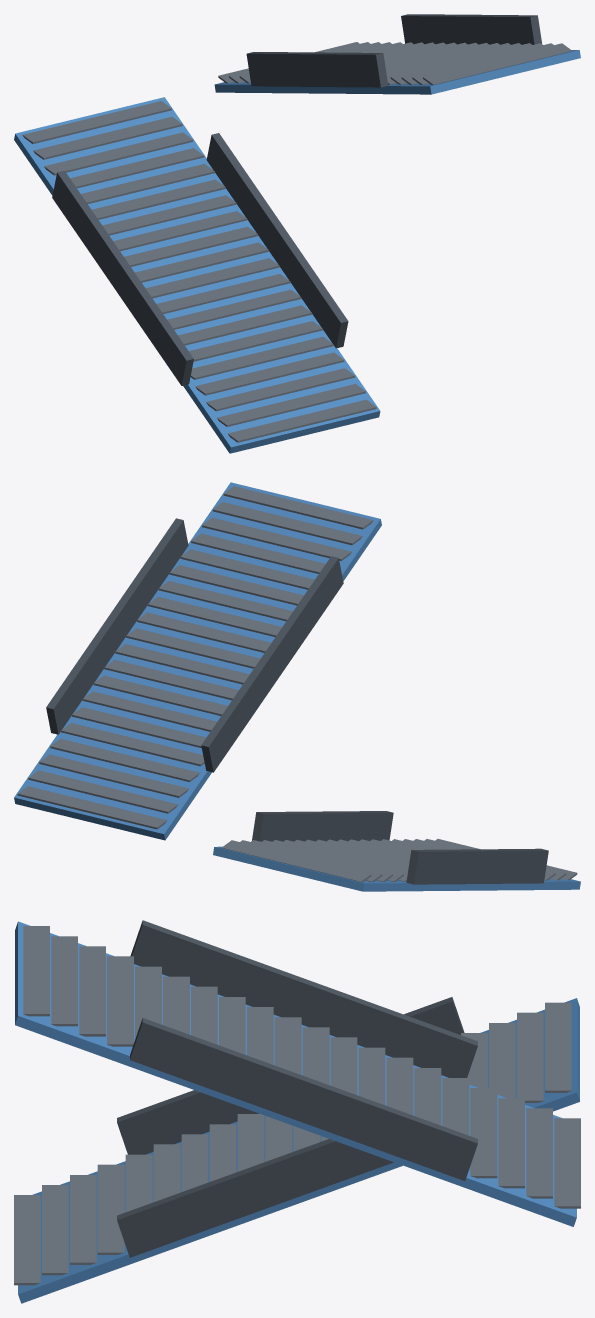
3 renders of one model, top to bottom at view 1: azimuth 30°, elevation 25°; view 2: azimuth 150°, elevation 25°; view 3: azimuth 270°, elevation 25°, orthographic. The views are drawn at different scales.
Parts seen in each view (by area): view 1: Stair_Generic_Rotatable_LowerFlight_Walkable, Stair_Generic_Rotatable_LowerFlight_Guard_01, Stair_Generic_Rotatable_LowerFlight_Guard_02, Stair_Generic_Rotatable_UpperFlight_Guard_02, Stair_Generic_Rotatable_UpperFlight_Guard_01, Stair_Generic_Rotatable_UpperFlight_Walkable, Stair_Generic_Rotatable_ROOT_LowerFlight_Tread_02, Stair_Generic_Rotatable_ROOT_LowerFlight_Tread_17, Stair_Generic_Rotatable_ROOT_LowerFlight_Tread_01, Stair_Generic_Rotatable_ROOT_LowerFlight_Tread_18, Stair_Generic_Rotatable_ROOT_LowerFlight_Tread_20, Stair_Generic_Rotatable_ROOT_LowerFlight_Tread_19 (+15 smaller); view 2: Stair_Generic_Rotatable_UpperFlight_Walkable, Stair_Generic_Rotatable_UpperFlight_Guard_02, Stair_Generic_Rotatable_UpperFlight_Guard_01, Stair_Generic_Rotatable_LowerFlight_Guard_01, Stair_Generic_Rotatable_LowerFlight_Guard_02, Stair_Generic_Rotatable_LowerFlight_Walkable, Stair_Generic_Rotatable_ROOT_UpperFlight_Tread_01, Stair_Generic_Rotatable_ROOT_UpperFlight_Tread_02, Stair_Generic_Rotatable_ROOT_UpperFlight_Tread_17, Stair_Generic_Rotatable_ROOT_UpperFlight_Tread_18, Stair_Generic_Rotatable_ROOT_UpperFlight_Tread_19, Stair_Generic_Rotatable_ROOT_UpperFlight_Tread_20 (+18 smaller); view 3: Stair_Generic_Rotatable_UpperFlight_Guard_01, Stair_Generic_Rotatable_UpperFlight_Guard_02, Stair_Generic_Rotatable_LowerFlight_Guard_02, Stair_Generic_Rotatable_UpperFlight_Walkable, Stair_Generic_Rotatable_LowerFlight_Walkable, Stair_Generic_Rotatable_LowerFlight_Guard_01, Stair_Generic_Rotatable_ROOT_LowerFlight_Tread_01, Stair_Generic_Rotatable_ROOT_UpperFlight_Tread_04, Stair_Generic_Rotatable_ROOT_UpperFlight_Tread_01, Stair_Generic_Rotatable_ROOT_UpperFlight_Tread_02, Stair_Generic_Rotatable_ROOT_UpperFlight_Tread_03, Stair_Generic_Rotatable_ROOT_UpperFlight_Tread_20 (+28 smaller).
Part boxes in pixels (x1,y1,x2,y2): Stair_Generic_Rotatable_LowerFlight_Walkable: [14, 97, 380, 453]; Stair_Generic_Rotatable_LowerFlight_Guard_01: [52, 170, 193, 385]; Stair_Generic_Rotatable_LowerFlight_Guard_02: [206, 133, 348, 348]; Stair_Generic_Rotatable_UpperFlight_Guard_02: [246, 52, 388, 87]; Stair_Generic_Rotatable_UpperFlight_Guard_01: [401, 14, 541, 44]; Stair_Generic_Rotatable_UpperFlight_Walkable: [214, 50, 580, 94]; Stair_Generic_Rotatable_ROOT_LowerFlight_Tread_02: [33, 116, 182, 159]; Stair_Generic_Rotatable_ROOT_LowerFlight_Tread_17: [195, 352, 344, 395]; Stair_Generic_Rotatable_ROOT_LowerFlight_Tread_01: [22, 101, 171, 143]; Stair_Generic_Rotatable_ROOT_LowerFlight_Tread_18: [206, 368, 355, 411]; Stair_Generic_Rotatable_ROOT_LowerFlight_Tread_20: [227, 399, 376, 442]; Stair_Generic_Rotatable_ROOT_LowerFlight_Tread_19: [217, 384, 365, 426]; Stair_Generic_Rotatable_UpperFlight_Walkable: [14, 482, 381, 840]; Stair_Generic_Rotatable_UpperFlight_Guard_02: [201, 556, 343, 772]; Stair_Generic_Rotatable_UpperFlight_Guard_01: [46, 518, 188, 734]; Stair_Generic_Rotatable_LowerFlight_Guard_01: [406, 848, 548, 884]; Stair_Generic_Rotatable_LowerFlight_Guard_02: [252, 811, 393, 841]; Stair_Generic_Rotatable_LowerFlight_Walkable: [213, 846, 580, 891]; Stair_Generic_Rotatable_ROOT_UpperFlight_Tread_01: [223, 486, 373, 529]; Stair_Generic_Rotatable_ROOT_UpperFlight_Tread_02: [212, 502, 362, 545]; Stair_Generic_Rotatable_ROOT_UpperFlight_Tread_17: [50, 738, 199, 782]; Stair_Generic_Rotatable_ROOT_UpperFlight_Tread_18: [39, 754, 188, 797]; Stair_Generic_Rotatable_ROOT_UpperFlight_Tread_19: [28, 770, 178, 813]; Stair_Generic_Rotatable_ROOT_UpperFlight_Tread_20: [17, 786, 167, 829]; Stair_Generic_Rotatable_UpperFlight_Guard_01: [130, 1018, 477, 1180]; Stair_Generic_Rotatable_UpperFlight_Guard_02: [130, 920, 477, 1077]; Stair_Generic_Rotatable_LowerFlight_Guard_02: [117, 1139, 393, 1257]; Stair_Generic_Rotatable_UpperFlight_Walkable: [15, 921, 576, 1226]; Stair_Generic_Rotatable_LowerFlight_Walkable: [18, 998, 579, 1303]; Stair_Generic_Rotatable_LowerFlight_Guard_01: [117, 997, 464, 1154]; Stair_Generic_Rotatable_ROOT_LowerFlight_Tread_01: [545, 1002, 571, 1092]; Stair_Generic_Rotatable_ROOT_UpperFlight_Tread_04: [107, 956, 133, 1046]; Stair_Generic_Rotatable_ROOT_UpperFlight_Tread_01: [23, 926, 49, 1016]; Stair_Generic_Rotatable_ROOT_UpperFlight_Tread_02: [51, 936, 77, 1026]; Stair_Generic_Rotatable_ROOT_UpperFlight_Tread_03: [79, 946, 105, 1036]; Stair_Generic_Rotatable_ROOT_UpperFlight_Tread_20: [554, 1118, 580, 1208].
Size of the model in its own units: 14.5 by 12.26 by 15.22.
